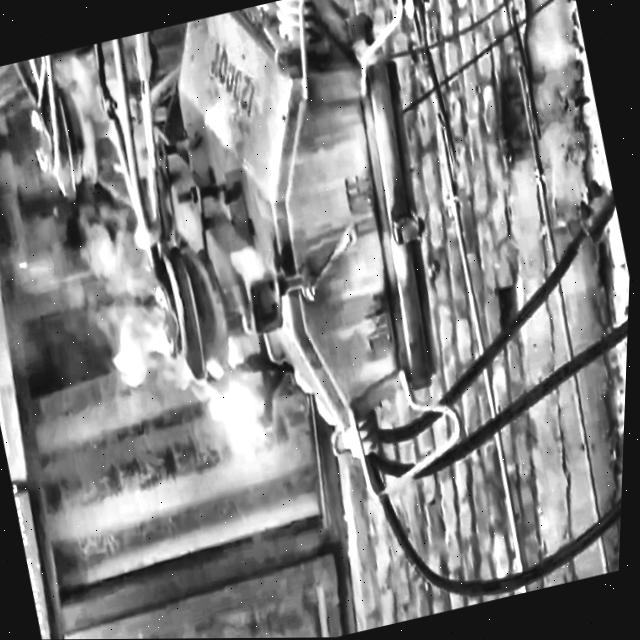Fire: (91, 273, 292, 487)
